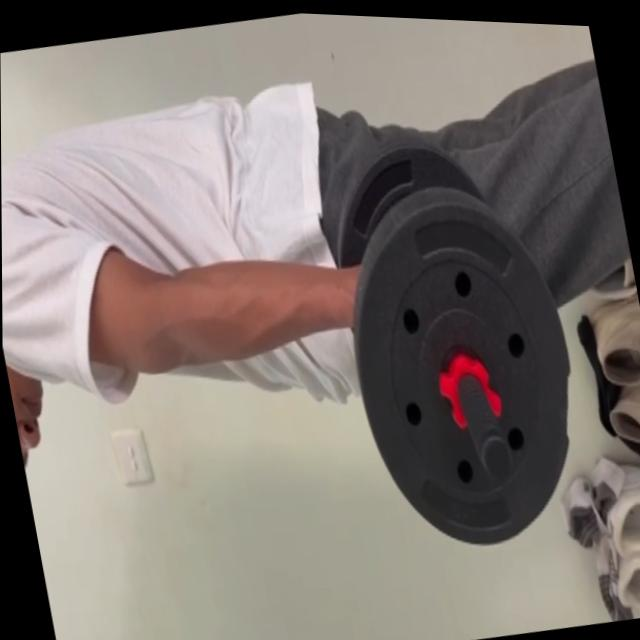dumbbell: (314, 112, 597, 563)
